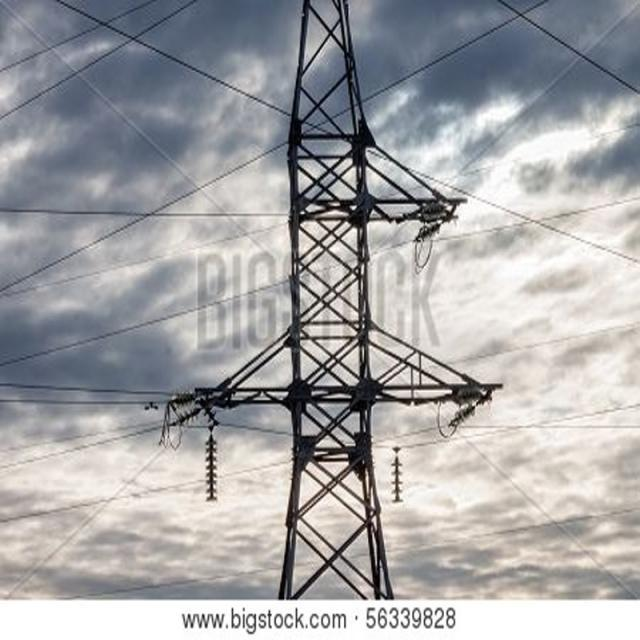non-critical vegetation: (187, 17, 462, 585)
